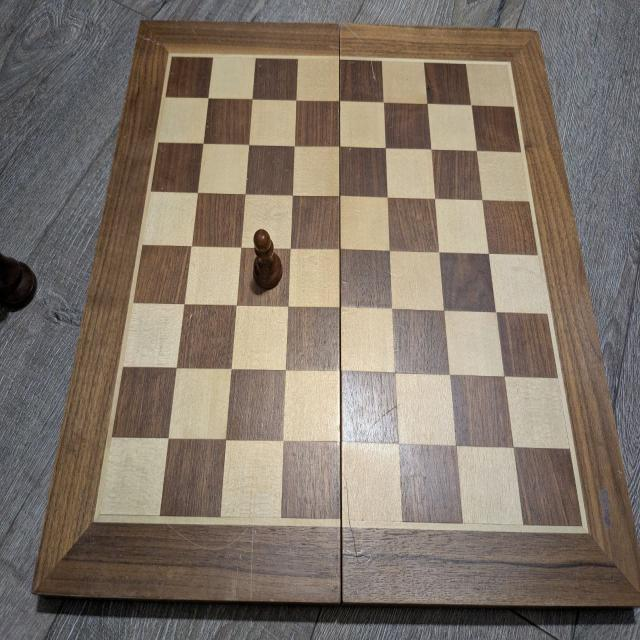black_pawn: (252, 228, 283, 291)
